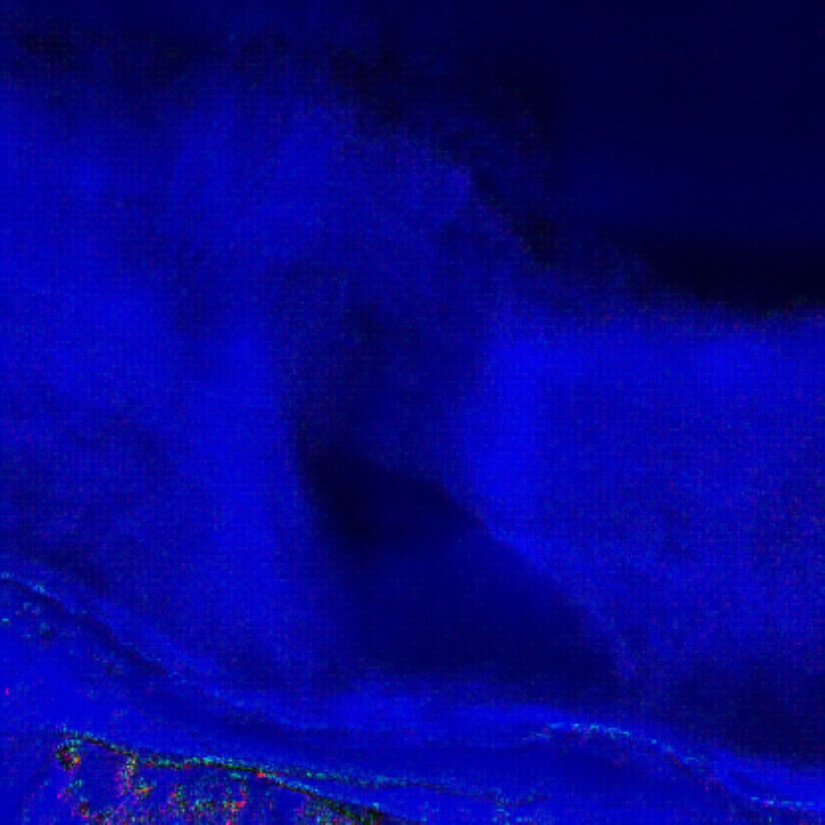rip_current: (215, 199, 603, 653)
